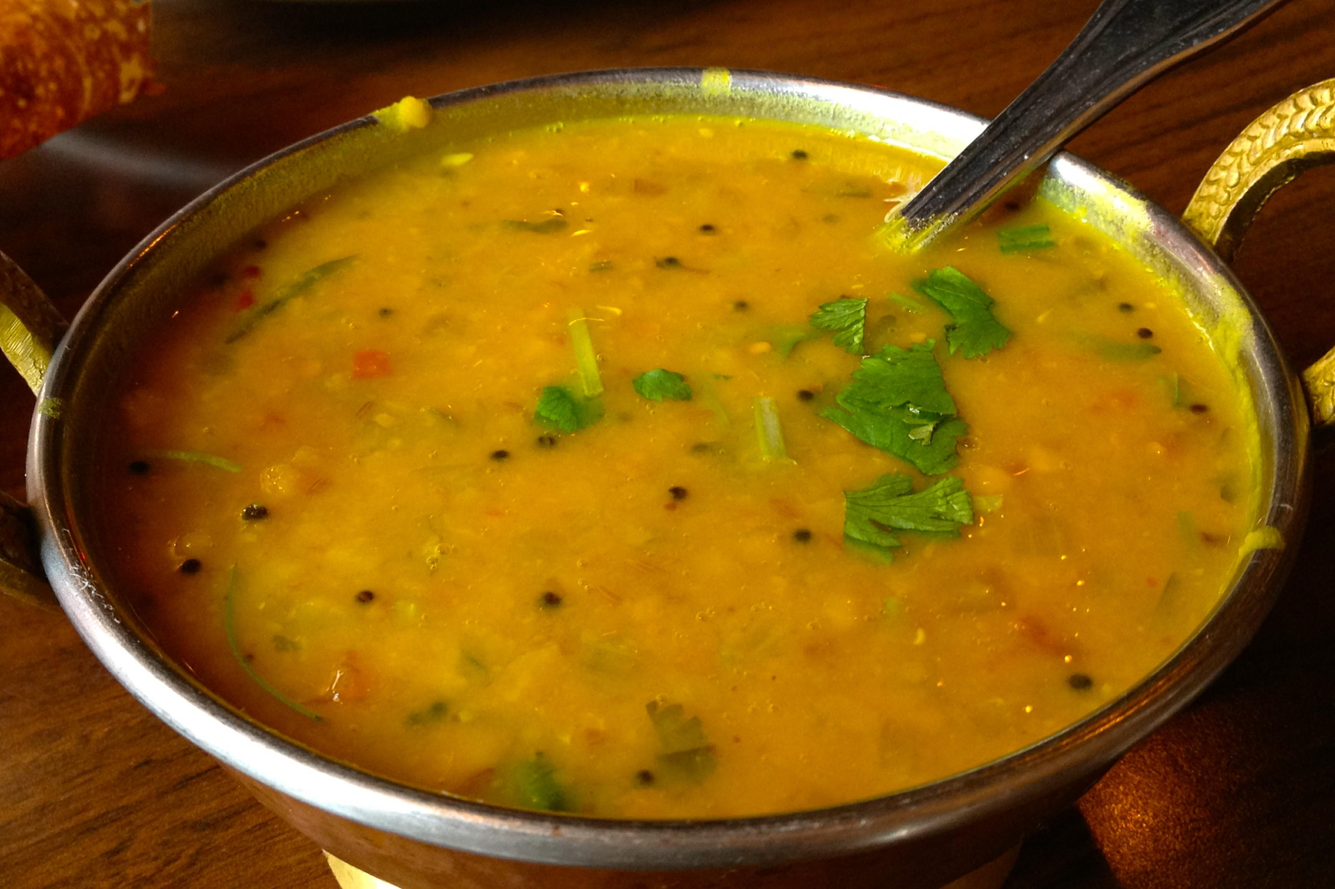Dal: (86, 109, 1246, 823)
